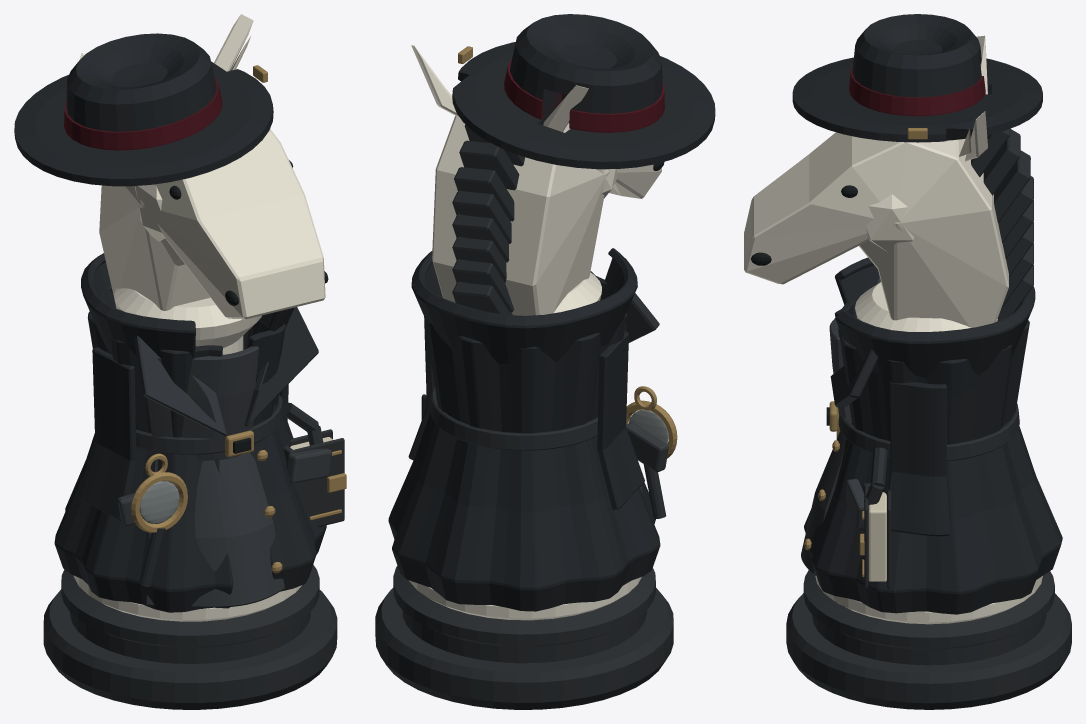
Rendered from CHR_knight.glb.
3 views of the same model, side by side, from view 1: azimuth 30°, elevation 25°; view 2: azimuth 150°, elevation 25°; view 3: azimuth 270°, elevation 25° (orthographic). The views are drawn at different scales.
Parts seen in each view (by area): view 1: CHR_knight__cloth, CHR_knight__black, CHR_knight__ivory, CHR_knight__fold, CHR_knight__redshadow, CHR_knight__brass, CHR_knight__steel, CHR_knight__coal; view 2: CHR_knight__cloth, CHR_knight__black, CHR_knight__ivory, CHR_knight__redshadow, CHR_knight__fold, CHR_knight__brass, CHR_knight__steel; view 3: CHR_knight__cloth, CHR_knight__ivory, CHR_knight__black, CHR_knight__fold, CHR_knight__redshadow, CHR_knight__paper, CHR_knight__brass.
Part boxes in pixels (x1,y1,x2,y2): CHR_knight__cloth: (14, 33, 326, 612); CHR_knight__black: (43, 307, 344, 709); CHR_knight__ivory: (73, 14, 325, 621); CHR_knight__fold: (117, 336, 332, 607); CHR_knight__redshadow: (64, 78, 222, 150); CHR_knight__brass: (131, 65, 346, 573); CHR_knight__steel: (139, 481, 179, 523); CHR_knight__coal: (169, 160, 328, 453); CHR_knight__cloth: (388, 14, 715, 611); CHR_knight__black: (375, 124, 673, 709); CHR_knight__ivory: (409, 45, 661, 620); CHR_knight__redshadow: (504, 59, 664, 132); CHR_knight__fold: (624, 293, 668, 492); CHR_knight__brass: (458, 46, 677, 458); CHR_knight__steel: (628, 409, 668, 443); CHR_knight__cloth: (792, 14, 1062, 614); CHR_knight__ivory: (744, 35, 1042, 624); CHR_knight__black: (786, 128, 1071, 709); CHR_knight__fold: (801, 276, 880, 575); CHR_knight__redshadow: (849, 66, 985, 116); CHR_knight__paper: (868, 492, 886, 581); CHR_knight__brass: (804, 128, 927, 577).
Bounding box in the file's own units: 0.898 × 1.8 × 0.8985.
